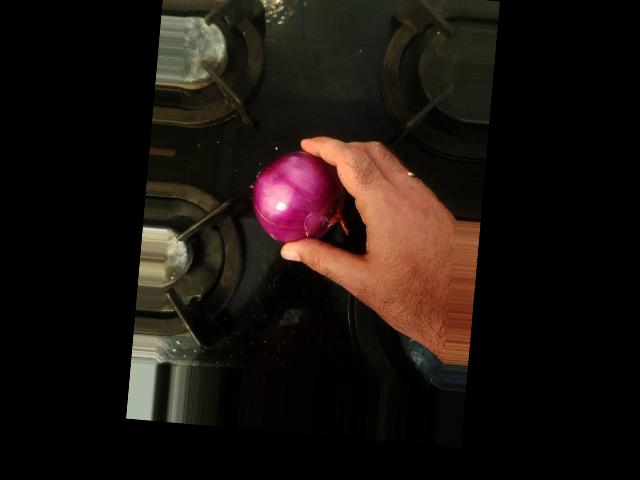onion: (256, 150, 340, 244)
